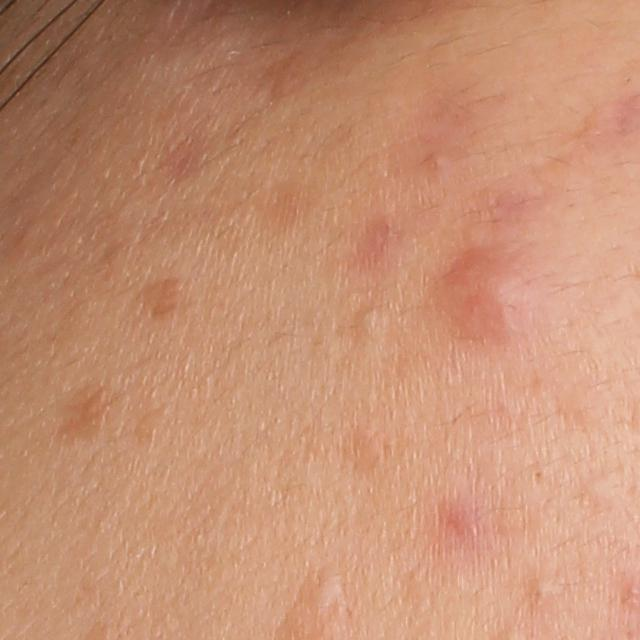comedo: (529, 579, 565, 603)
papule: (441, 256, 535, 339)
